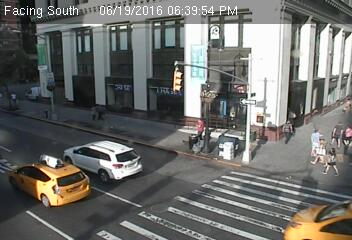neg: (147, 122, 171, 154), (52, 98, 73, 125), (49, 46, 69, 73), (257, 51, 277, 76), (145, 26, 161, 46), (197, 15, 212, 36), (100, 151, 115, 172), (182, 181, 197, 201), (99, 32, 113, 52), (45, 159, 59, 176), (301, 49, 314, 66)
pos: (302, 123, 326, 154), (321, 143, 344, 173), (326, 117, 347, 145), (310, 136, 330, 163), (278, 115, 298, 142), (195, 115, 211, 137), (95, 98, 111, 120), (338, 120, 351, 147), (89, 103, 100, 119), (8, 89, 19, 104)
